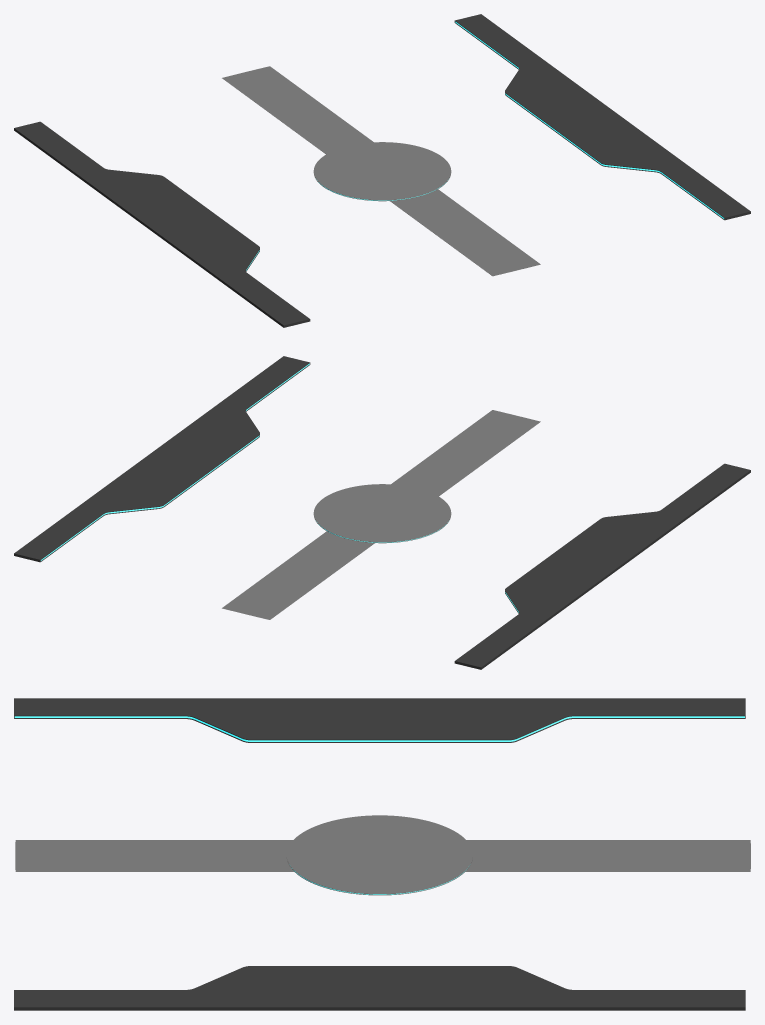
File: Decor3.FBX
3 views of the same model, one above another, from view 1: azimuth 30°, elevation 25°; view 2: azimuth 150°, elevation 25°; view 3: azimuth 270°, elevation 25° (orthographic). The views are drawn at different scales.
Parts seen in each view (by area): view 1: Shape001, CenterFlore; view 2: Shape001, CenterFlore; view 3: Shape001, CenterFlore.
Boxes of the visible parts, left/top/right/bottom form: Shape001: left=14, top=14, right=750, bottom=327; CenterFlore: left=222, top=66, right=540, bottom=276; Shape001: left=14, top=356, right=750, bottom=669; CenterFlore: left=222, top=410, right=540, bottom=619; Shape001: left=14, top=698, right=745, bottom=1010; CenterFlore: left=15, top=815, right=750, bottom=895.
Bounding box in the file's own units: 2971 × 15 × 2993.
